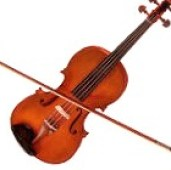Fiddle: (4, 1, 170, 162)
